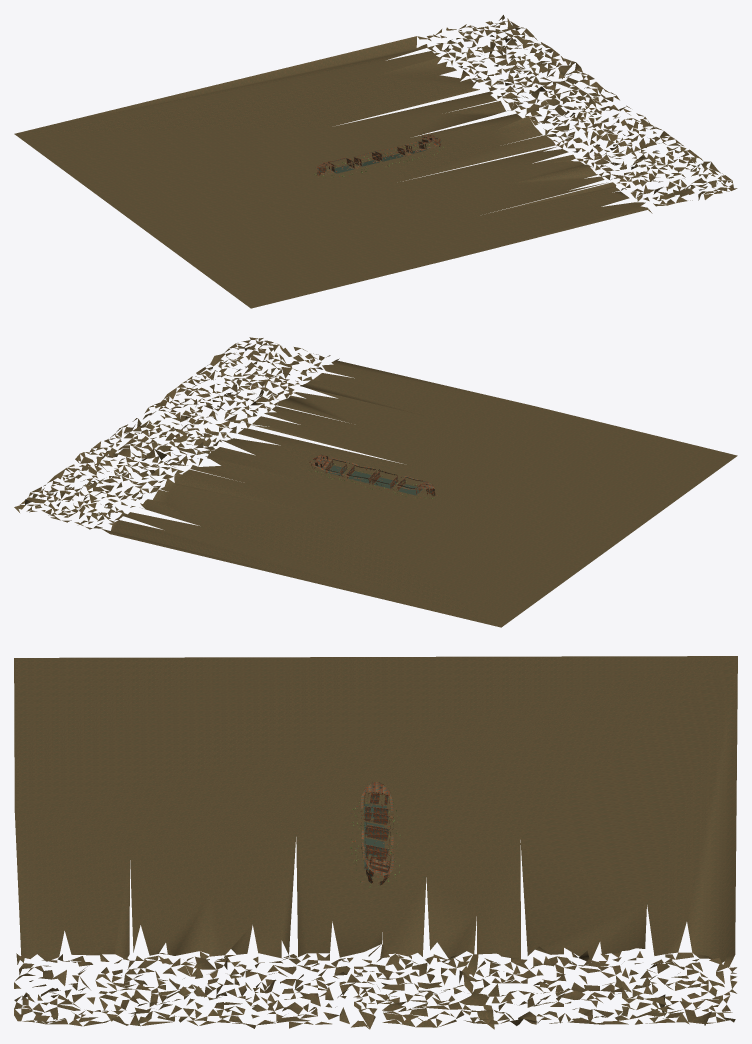
The model's file is korean_castle_lod2.glb.
3 renders of one model, top to bottom at view 1: azimuth 30°, elevation 25°; view 2: azimuth 150°, elevation 25°; view 3: azimuth 270°, elevation 25°, orthographic. The views are drawn at different scales.
Parts seen in each view (by area): view 1: Seabed_sand_ripples; view 2: Seabed_sand_ripples; view 3: Seabed_sand_ripples.
Boxes of the visible parts, x1,y1,x2,y2 form: Seabed_sand_ripples: [14, 15, 737, 308]; Seabed_sand_ripples: [14, 337, 737, 627]; Seabed_sand_ripples: [14, 656, 737, 1029].
Size of the model in its own units: 600 by 37.9 by 500.
5 materials, 4 textured.
